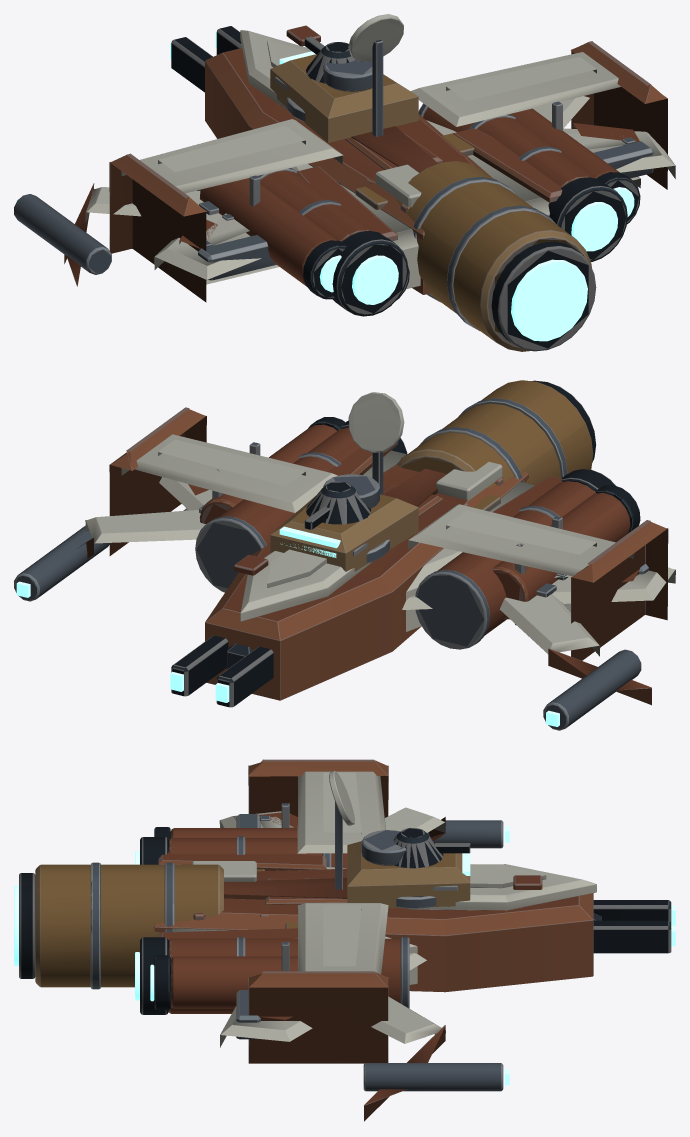
File: hero-scrapper-kit.glb
3 renders of one model, top to bottom at view 1: azimuth 30°, elevation 25°; view 2: azimuth 150°, elevation 25°; view 3: azimuth 270°, elevation 25°, orthographic. The views are drawn at different scales.
Visible parts, largest first — view 1: hero_scrapper_wings_b, hero_scrapper_engines_c, hero_scrapper_engines_a, hero_scrapper_hull_a, hero_scrapper_engines_b, hero_scrapper_wings_a, hero_scrapper_cockpit_c, hero_scrapper_hull_b, hero_scrapper_wings_c, hero_scrapper_cockpit_b, hero_scrapper_hull_c; view 2: hero_scrapper_wings_b, hero_scrapper_hull_a, hero_scrapper_engines_a, hero_scrapper_wings_c, hero_scrapper_engines_c, hero_scrapper_cockpit_c, hero_scrapper_engines_b, hero_scrapper_cockpit_b, hero_scrapper_hull_c, hero_scrapper_hull_b, hero_scrapper_wings_a; view 3: hero_scrapper_wings_b, hero_scrapper_hull_a, hero_scrapper_engines_c, hero_scrapper_wings_c, hero_scrapper_engines_a, hero_scrapper_engines_b, hero_scrapper_cockpit_c, hero_scrapper_hull_c, hero_scrapper_hull_b, hero_scrapper_wings_a, hero_scrapper_cockpit_b.
Part boxes in pixels (x1,y1,x2,y2): hero_scrapper_wings_b: [109, 41, 667, 302]; hero_scrapper_engines_c: [396, 161, 596, 351]; hero_scrapper_engines_a: [197, 103, 627, 316]; hero_scrapper_hull_a: [205, 25, 490, 294]; hero_scrapper_engines_b: [199, 108, 640, 300]; hero_scrapper_wings_a: [154, 123, 675, 280]; hero_scrapper_cockpit_c: [270, 36, 418, 142]; hero_scrapper_hull_b: [291, 120, 562, 289]; hero_scrapper_wings_c: [14, 96, 589, 286]; hero_scrapper_cockpit_b: [286, 14, 403, 136]; hero_scrapper_hull_c: [170, 26, 467, 212]; hero_scrapper_wings_b: [109, 407, 668, 660]; hero_scrapper_hull_a: [205, 461, 528, 700]; hero_scrapper_engines_a: [195, 420, 615, 649]; hero_scrapper_wings_c: [14, 504, 651, 730]; hero_scrapper_engines_c: [396, 380, 596, 487]; hero_scrapper_cockpit_c: [270, 474, 418, 571]; hero_scrapper_engines_b: [199, 417, 640, 619]; hero_scrapper_cockpit_b: [306, 392, 404, 562]; hero_scrapper_hull_c: [170, 454, 503, 707]; hero_scrapper_hull_b: [227, 442, 562, 669]; hero_scrapper_wings_a: [159, 477, 675, 609]; hero_scrapper_wings_b: [248, 759, 388, 1063]; hero_scrapper_hull_a: [154, 861, 596, 992]; hero_scrapper_engines_c: [14, 862, 223, 989]; hero_scrapper_wings_c: [363, 807, 509, 1121]; hero_scrapper_engines_a: [135, 836, 409, 1014]; hero_scrapper_engines_b: [150, 827, 297, 1010]; hero_scrapper_cockpit_c: [347, 830, 470, 908]; hero_scrapper_hull_c: [193, 871, 675, 953]; hero_scrapper_hull_b: [158, 852, 601, 984]; hero_scrapper_wings_a: [219, 811, 426, 1047]; hero_scrapper_cockpit_b: [329, 771, 443, 908].
Size of the model in its own units: 1.52 by 0.5835 by 1.61.
